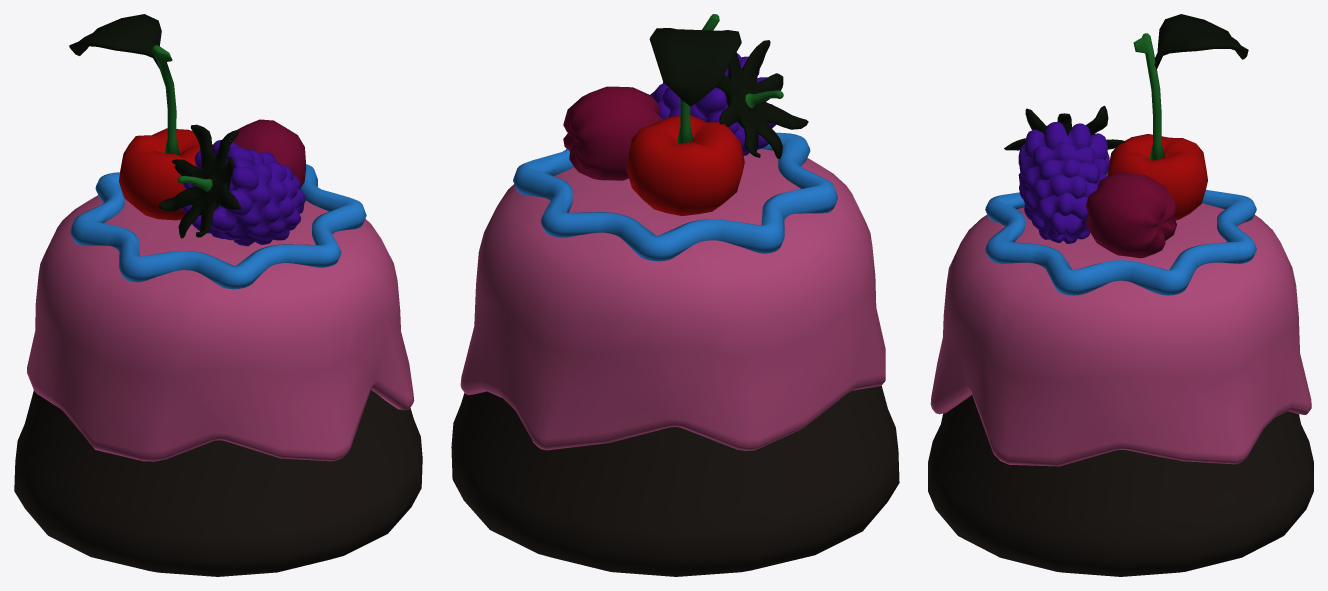
The model's file is Panna Cotta_3.FBX.
3 renders of one model, left to right at view 1: azimuth 30°, elevation 25°; view 2: azimuth 150°, elevation 25°; view 3: azimuth 270°, elevation 25°, orthographic. The views are drawn at different scales.
Parts seen in each view (by area): view 1: Panna Cotta_3; view 2: Panna Cotta_3; view 3: Panna Cotta_3.
Boxes of the visible parts, x1,y1,x2,y2 form: Panna Cotta_3: (14,14,422,576); Panna Cotta_3: (451,14,899,576); Panna Cotta_3: (928,14,1313,576).
Bounding box in the file's own units: 986 × 937 × 1213.
